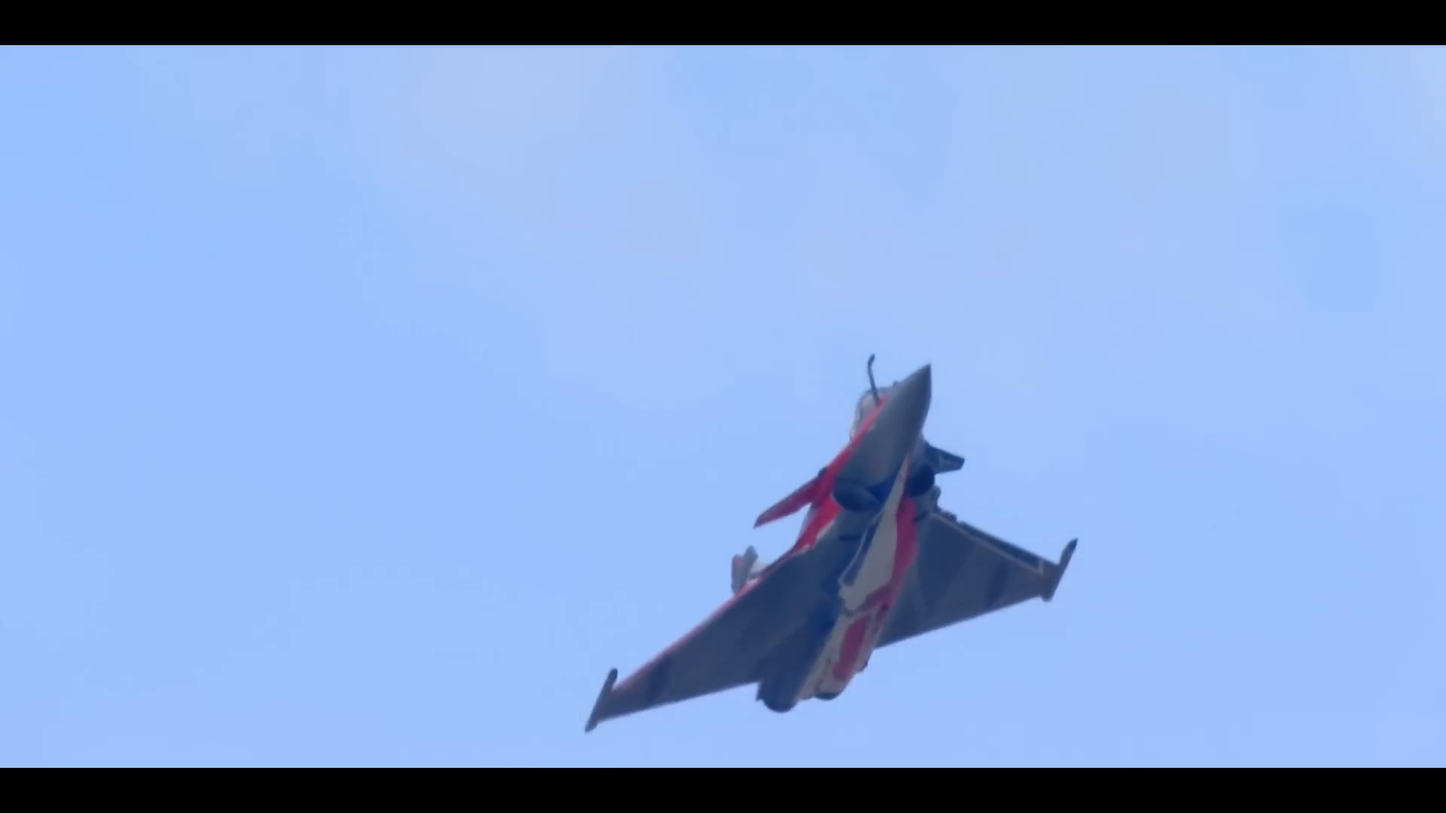Rafale: (565, 343, 1084, 748)
